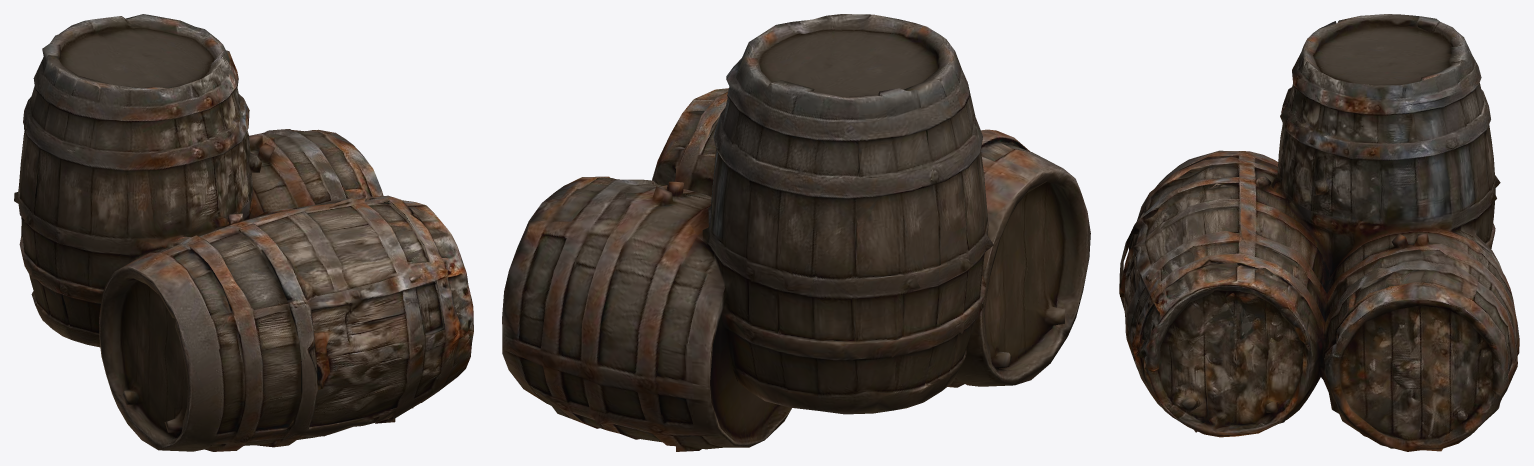
File: barrels.glb
3 renders of one model, left to right at view 1: azimuth 30°, elevation 25°; view 2: azimuth 150°, elevation 25°; view 3: azimuth 270°, elevation 25°, orthographic. The views are drawn at different scales.
Visible parts, largest first — view 1: tripo_node_de4bd447-96e4-4085-91b3-fca3b65f7702; view 2: tripo_node_de4bd447-96e4-4085-91b3-fca3b65f7702; view 3: tripo_node_de4bd447-96e4-4085-91b3-fca3b65f7702.
Boxes of the visible parts, <box> form: tripo_node_de4bd447-96e4-4085-91b3-fca3b65f7702: <box>14,14,473,451</box>; tripo_node_de4bd447-96e4-4085-91b3-fca3b65f7702: <box>502,14,1090,451</box>; tripo_node_de4bd447-96e4-4085-91b3-fca3b65f7702: <box>1119,14,1519,451</box>.
Size of the model in its own units: 0.9044 by 0.8731 by 1.
1 material, 1 textured.
